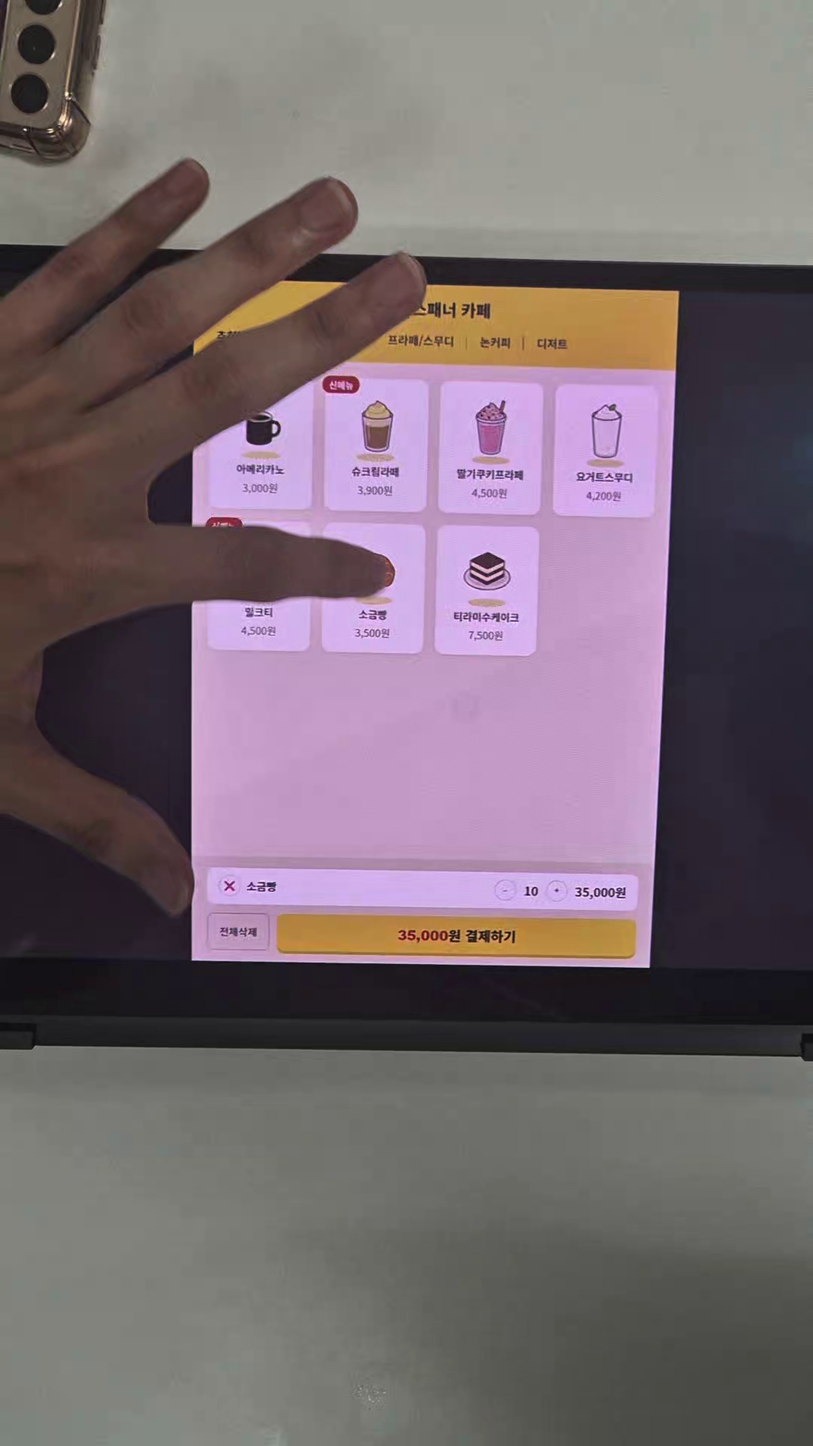action_button: (276, 913, 637, 959), (207, 912, 270, 951)
cart_item: (206, 866, 639, 911)
category_tab: (386, 333, 455, 349), (479, 335, 511, 350), (536, 337, 568, 351)
menu_back: (323, 377, 430, 513), (552, 384, 660, 518), (437, 381, 544, 516), (433, 525, 540, 657), (209, 376, 313, 510), (321, 523, 426, 654), (208, 521, 312, 652)
menu_name: (455, 467, 525, 483), (452, 610, 520, 625), (574, 470, 634, 485), (235, 463, 285, 477), (350, 465, 399, 479), (241, 606, 275, 620), (357, 608, 388, 622)
menu_price: (470, 486, 508, 500), (466, 629, 504, 643), (240, 624, 277, 638), (355, 484, 394, 497), (584, 490, 623, 503), (241, 482, 279, 495), (354, 627, 392, 640)
